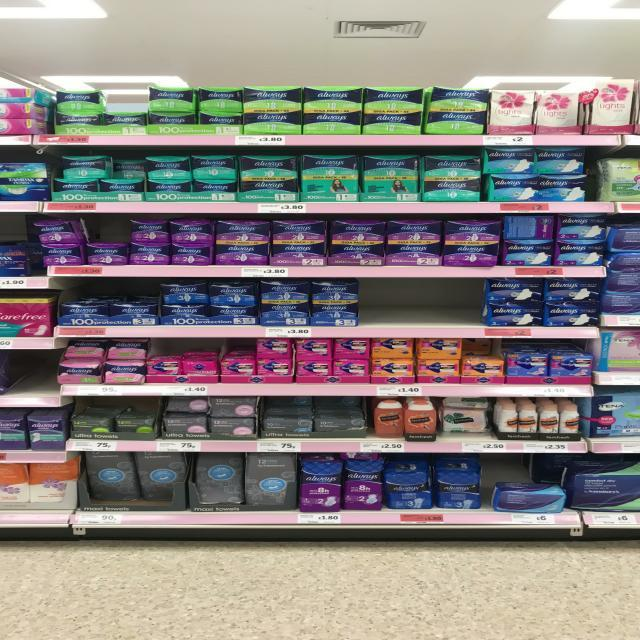empty: (360, 278, 482, 338), (16, 350, 56, 408)
